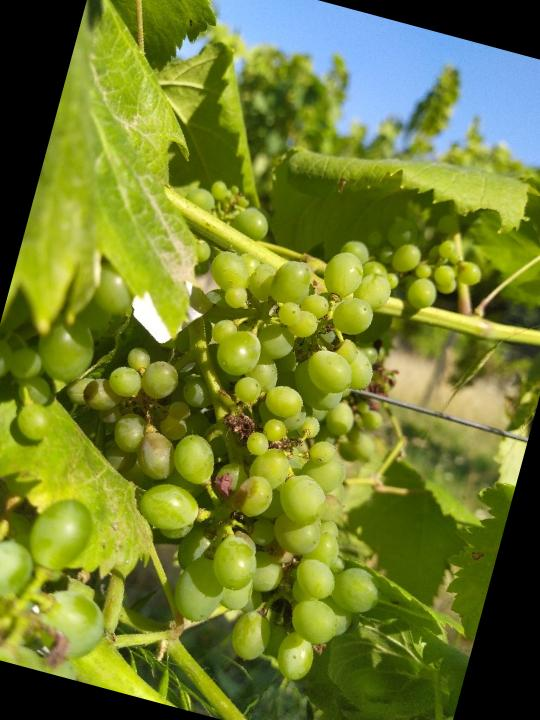grape: (8, 189, 466, 706), (354, 186, 502, 323)
